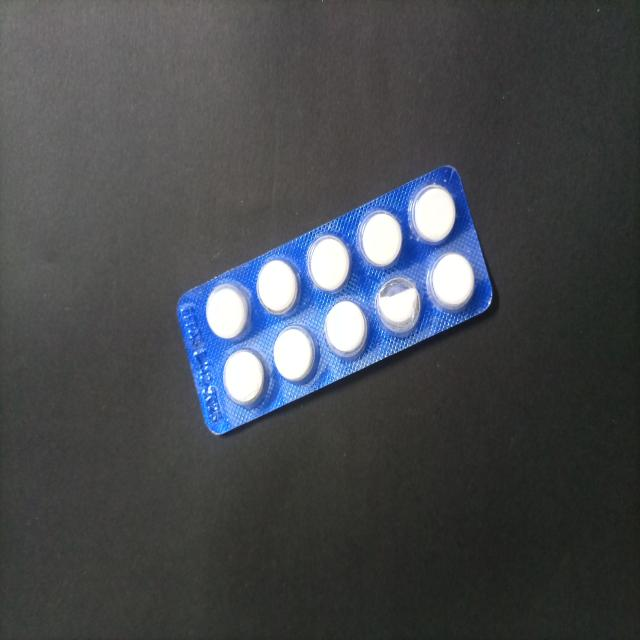defect: (374, 275, 423, 336)
